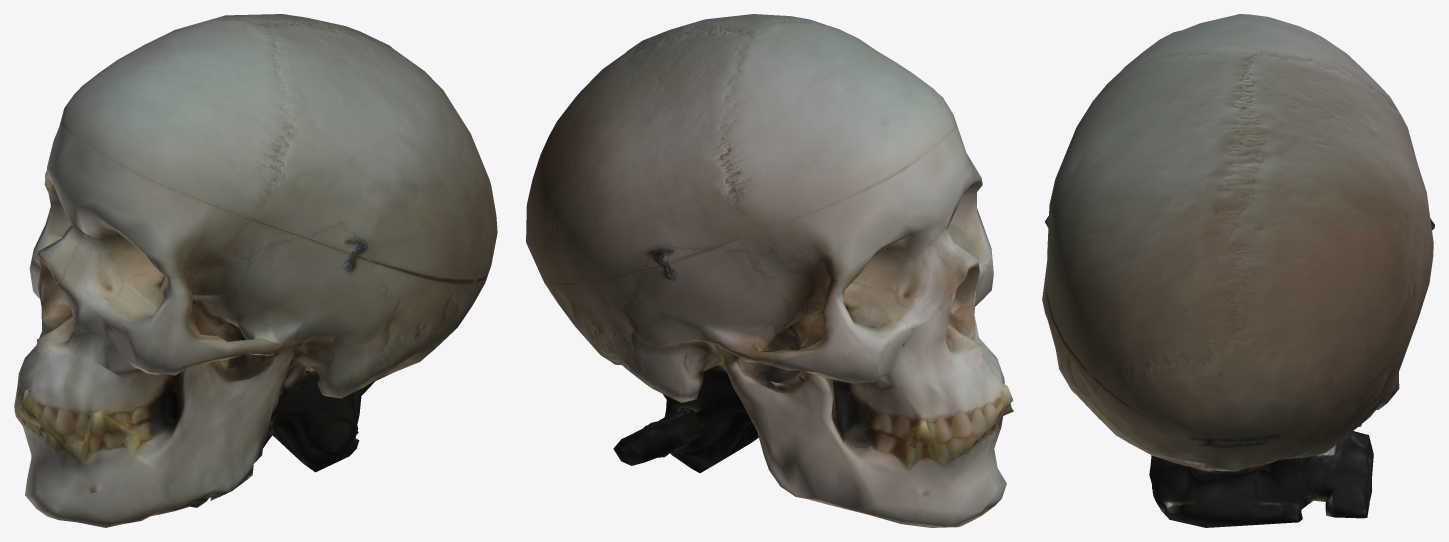
File: Skull_Whole.fbx
3 renders of one model, left to right at view 1: azimuth 30°, elevation 25°; view 2: azimuth 150°, elevation 25°; view 3: azimuth 270°, elevation 25°, orthographic. The views are drawn at different scales.
Parts seen in each view (by area): view 1: Model; view 2: Model; view 3: Model.
Part boxes in pixels (x1,y1,x2,y2): Model: [14, 14, 497, 527]; Model: [526, 14, 1013, 527]; Model: [1042, 14, 1434, 527].
Bounding box in the file's own units: 111 × 101 × 79.09.
